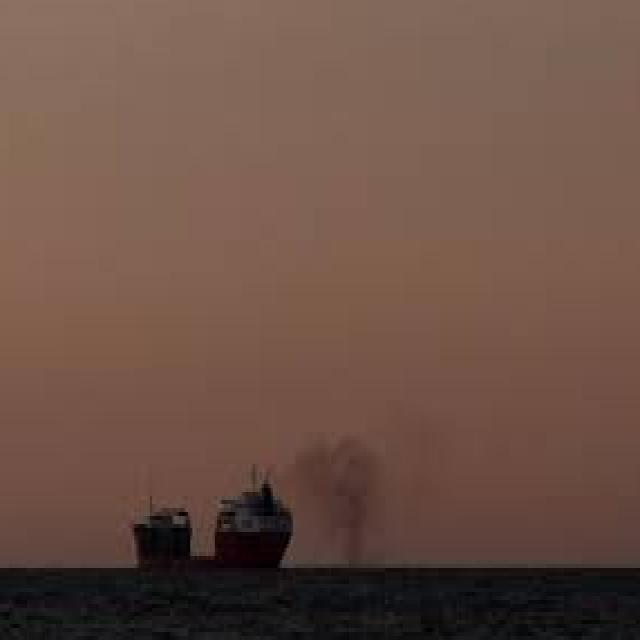cargoship: (212, 483, 293, 573), (134, 474, 201, 564)
